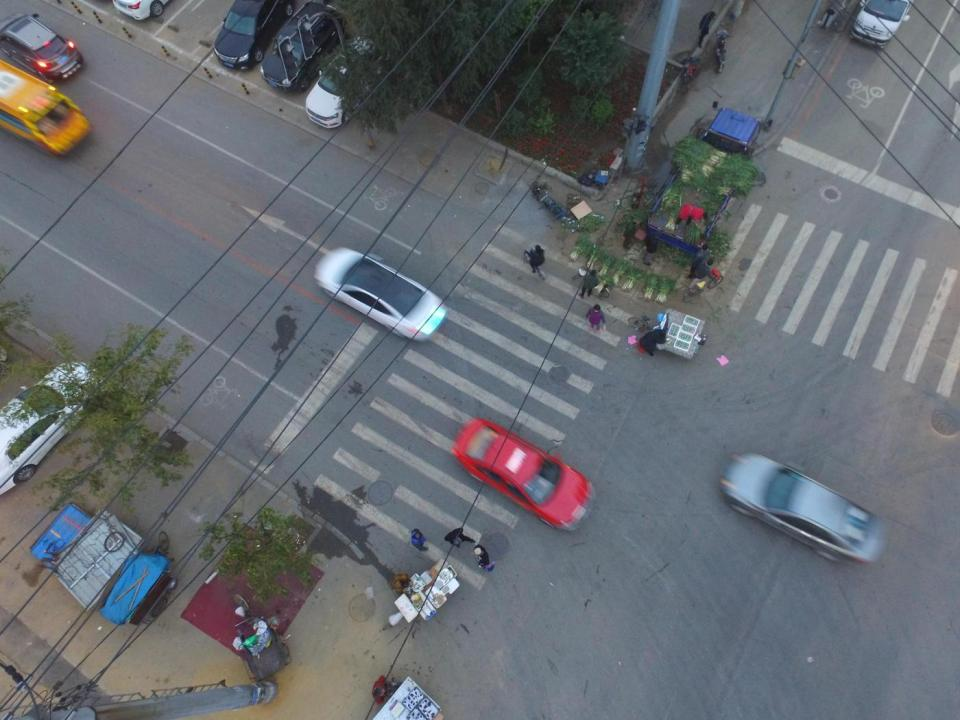bus: (0, 61, 90, 154)
car: (720, 452, 889, 566), (451, 417, 597, 529), (0, 363, 96, 502), (314, 248, 446, 344), (305, 29, 386, 130), (259, 4, 346, 92), (0, 13, 84, 85), (214, 0, 296, 68)
truck: (648, 106, 760, 252)
van: (850, 0, 914, 48)
